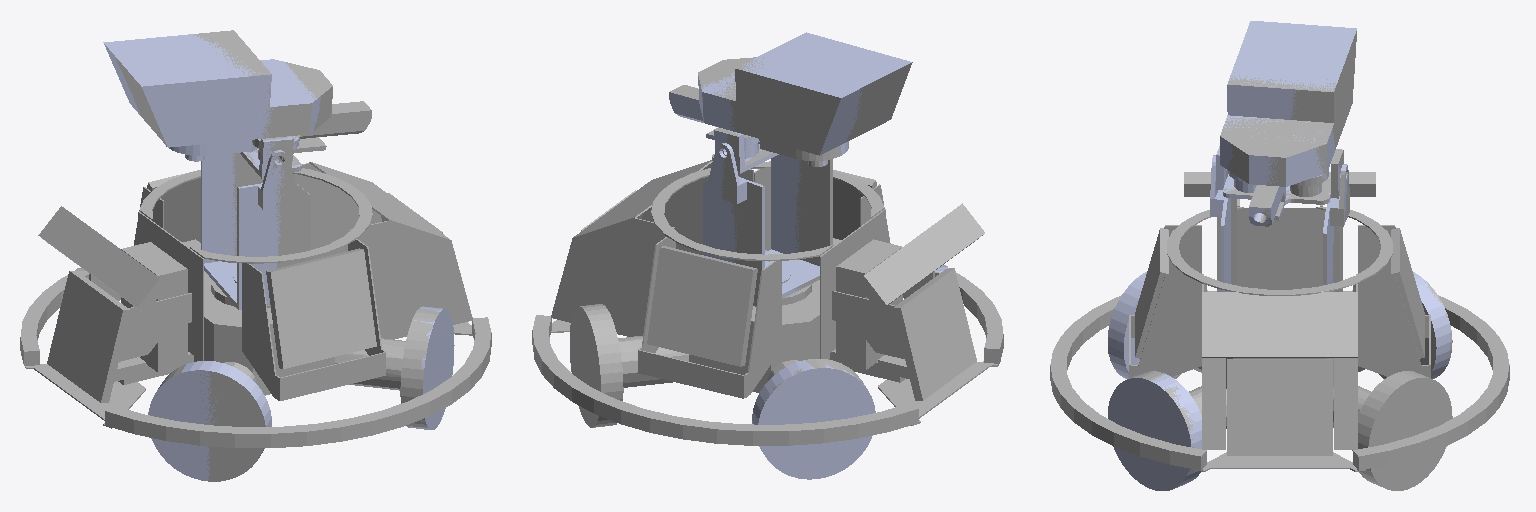
robot.urdf — urdf.SLDASM:
<?xml version="1.0" encoding="utf-8"?>
<!-- This URDF was automatically created by SolidWorks to URDF Exporter! Originally created by Stephen Brawner (brawner@gmail.com) 
     Commit Version: 1.6.0-4-g7f85cfe  Build Version: 1.6.7995.38578
     For more information, please see http://wiki.ros.org/sw_urdf_exporter -->
<robot
  name="urdf.SLDASM">
  <link
    name="Total assembly">
    <inertial>
      <origin
        xyz="-0.0195249578204248 0.00195572431337624 0.0199534599761812"
        rpy="0 0 0" />
      <mass
        value="12.7319888109524" />
      <inertia
        ixx="0.099910085738785"
        ixy="0.000904001123724784"
        ixz="0.00649172844420192"
        iyy="0.127406348155969"
        iyz="-0.000316780368073457"
        izz="0.180681987163622" />
    </inertial>
    <visual>
      <origin
        xyz="0 0 0"
        rpy="0 0 0" />
      <geometry>
        <mesh
          filename="package://urdf.SLDASM/meshes/Total assembly.STL" />
      </geometry>
      <material
        name="">
        <color
          rgba="0.752941176470588 0.752941176470588 0.752941176470588 1" />
      </material>
    </visual>
    <collision>
      <origin
        xyz="0 0 0"
        rpy="0 0 0" />
      <geometry>
        <mesh
          filename="package://urdf.SLDASM/meshes/Total assembly.STL" />
      </geometry>
    </collision>
  </link>
  <link
    name="body&amp;wheels">
    <inertial>
      <origin
        xyz="-0.014464583145287 -3.4777801978525E-08 -0.04630188656629"
        rpy="0 0 0" />
      <mass
        value="7.38762341423434" />
      <inertia
        ixx="0.0858099715349203"
        ixy="9.06674283538533E-08"
        ixz="0.00463615934367856"
        iyy="0.108320017042519"
        iyz="9.21827441555587E-06"
        izz="0.161187478867477" />
    </inertial>
    <visual>
      <origin
        xyz="0 0 0"
        rpy="0 0 0" />
      <geometry>
        <mesh
          filename="package://urdf.SLDASM/meshes/body&amp;wheels.STL" />
      </geometry>
      <material
        name="">
        <color
          rgba="0.792156862745098 0.819607843137255 0.933333333333333 1" />
      </material>
    </visual>
    <collision>
      <origin
        xyz="0 0 0"
        rpy="0 0 0" />
      <geometry>
        <mesh
          filename="package://urdf.SLDASM/meshes/body&amp;wheels.STL" />
      </geometry>
    </collision>
  </link>
  <joint
    name="body&amp;wheels"
    type="continuous">
    <origin
      xyz="0 0 0"
      rpy="0 0 0" />
    <parent
      link="Total assembly" />
    <child
      link="body&amp;wheels" />
    <axis
      xyz="0 0 -1" />
  </joint>
  <link
    name="frout left wheel">
    <inertial>
      <origin
        xyz="-0.0145 0 -1.11022302462516E-16"
        rpy="0 0 0" />
      <mass
        value="0.533176182602155" />
      <inertia
        ixx="0.00156014015731673"
        ixy="8.13151629364128E-20"
        ixz="3.92107847703925E-20"
        iyy="0.000817436842789067"
        iyz="1.0405631885096E-19"
        izz="0.000817436842789067" />
    </inertial>
    <visual>
      <origin
        xyz="0 0 0"
        rpy="0 0 0" />
      <geometry>
        <mesh
          filename="package://urdf.SLDASM/meshes/frout left wheel.STL" />
      </geometry>
      <material
        name="">
        <color
          rgba="0.792156862745098 0.819607843137255 0.933333333333333 1" />
      </material>
    </visual>
    <collision>
      <origin
        xyz="0 0 0"
        rpy="0 0 0" />
      <geometry>
        <mesh
          filename="package://urdf.SLDASM/meshes/frout left wheel.STL" />
      </geometry>
    </collision>
  </link>
  <joint
    name="frout left wheel"
    type="continuous">
    <origin
      xyz="0.16718 0.16718 -0.0907"
      rpy="0 0 0.7854" />
    <parent
      link="body&amp;wheels" />
    <child
      link="frout left wheel" />
    <axis
      xyz="1 0 0" />
  </joint>
  <link
    name="frout right wheel">
    <inertial>
      <origin
        xyz="-0.0145 -1.38777878078145E-17 -1.11022302462516E-16"
        rpy="0 0 0" />
      <mass
        value="0.533176182602155" />
      <inertia
        ixx="0.00156014015731673"
        ixy="0"
        ixz="9.67092878960191E-20"
        iyy="0.000817436842789067"
        iyz="4.59189434683823E-20"
        izz="0.000817436842789066" />
    </inertial>
    <visual>
      <origin
        xyz="0 0 0"
        rpy="0 0 0" />
      <geometry>
        <mesh
          filename="package://urdf.SLDASM/meshes/frout right wheel.STL" />
      </geometry>
      <material
        name="">
        <color
          rgba="0.792156862745098 0.819607843137255 0.933333333333333 1" />
      </material>
    </visual>
    <collision>
      <origin
        xyz="0 0 0"
        rpy="0 0 0" />
      <geometry>
        <mesh
          filename="package://urdf.SLDASM/meshes/frout right wheel.STL" />
      </geometry>
    </collision>
  </link>
  <joint
    name="frout right wheel"
    type="continuous">
    <origin
      xyz="0.16718 -0.16718 -0.09097"
      rpy="0 0 -0.7854" />
    <parent
      link="body&amp;wheels" />
    <child
      link="frout right wheel" />
    <axis
      xyz="1 0 0" />
  </joint>
  <link
    name="back left wheel">
    <inertial>
      <origin
        xyz="-0.0145 -1.38777878078145E-17 0"
        rpy="0 0 0" />
      <mass
        value="0.533176182602155" />
      <inertia
        ixx="0.00156014015731673"
        ixy="0"
        ixz="-1.14198415930064E-20"
        iyy="0.000817436842789067"
        iyz="-5.8057516350459E-20"
        izz="0.000817436842789067" />
    </inertial>
    <visual>
      <origin
        xyz="0 0 0"
        rpy="0 0 0" />
      <geometry>
        <mesh
          filename="package://urdf.SLDASM/meshes/back left wheel.STL" />
      </geometry>
      <material
        name="">
        <color
          rgba="0.792156862745098 0.819607843137255 0.933333333333333 1" />
      </material>
    </visual>
    <collision>
      <origin
        xyz="0 0 0"
        rpy="0 0 0" />
      <geometry>
        <mesh
          filename="package://urdf.SLDASM/meshes/back left wheel.STL" />
      </geometry>
    </collision>
  </link>
  <joint
    name="back left wheel"
    type="continuous">
    <origin
      xyz="-0.16718 0.16718 -0.09097"
      rpy="0 0 2.3562" />
    <parent
      link="body&amp;wheels" />
    <child
      link="back left wheel" />
    <axis
      xyz="-1 0 0" />
  </joint>
  <link
    name="back right wheel">
    <inertial>
      <origin
        xyz="-0.127403866697427 -0.181711200468062 -0.204299845961811"
        rpy="0 0 0" />
      <mass
        value="0.533176182602155" />
      <inertia
        ixx="0.00106221244233337"
        ixy="0.000349113956989373"
        ixz="8.69614394519842E-20"
        iyy="0.00131536455777242"
        iyz="-2.43969840038229E-20"
        izz="0.000817436842789066" />
    </inertial>
    <visual>
      <origin
        xyz="0 0 0"
        rpy="0 0 0" />
      <geometry>
        <mesh
          filename="package://urdf.SLDASM/meshes/back right wheel.STL" />
      </geometry>
      <material
        name="">
        <color
          rgba="0.792156862745098 0.819607843137255 0.933333333333333 1" />
      </material>
    </visual>
    <collision>
      <origin
        xyz="0 0 0"
        rpy="0 0 0" />
      <geometry>
        <mesh
          filename="package://urdf.SLDASM/meshes/back right wheel.STL" />
      </geometry>
    </collision>
  </link>
  <joint
    name="back right wheel"
    type="continuous">
    <origin
      xyz="0 0 0.1136"
      rpy="0 0 -0.17391" />
    <parent
      link="body&amp;wheels" />
    <child
      link="back right wheel" />
    <axis
      xyz="0.57409 0.8188 0" />
  </joint>
  <link
    name="body&amp;gimbol">
    <inertial>
      <origin
        xyz="-0.014464583145287 -3.47778019750555E-08 -0.0463018865662903"
        rpy="0 0 0" />
      <mass
        value="7.38762341423434" />
      <inertia
        ixx="0.0858099715349203"
        ixy="9.06674283547613E-08"
        ixz="0.00463615934367856"
        iyy="0.108320017042519"
        iyz="9.21827441555822E-06"
        izz="0.161187478867477" />
    </inertial>
    <visual>
      <origin
        xyz="0 0 0"
        rpy="0 0 0" />
      <geometry>
        <mesh
          filename="package://urdf.SLDASM/meshes/body&amp;gimbol.STL" />
      </geometry>
      <material
        name="">
        <color
          rgba="0.792156862745098 0.819607843137255 0.933333333333333 1" />
      </material>
    </visual>
    <collision>
      <origin
        xyz="0 0 0"
        rpy="0 0 0" />
      <geometry>
        <mesh
          filename="package://urdf.SLDASM/meshes/body&amp;gimbol.STL" />
      </geometry>
    </collision>
  </link>
  <joint
    name="body&amp;gimbol"
    type="continuous">
    <origin
      xyz="0 0 0"
      rpy="0 0 0" />
    <parent
      link="Total assembly" />
    <child
      link="body&amp;gimbol" />
    <axis
      xyz="0 0 -1" />
  </joint>
  <link
    name="gimbol">
    <inertial>
      <origin
        xyz="-0.000418768299019601 -2.91433543964104E-16 -0.0356697610188731"
        rpy="0 0 0" />
      <mass
        value="0.296006965244182" />
      <inertia
        ixx="0.00245101679694451"
        ixy="-2.16840434497101E-19"
        ixz="1.00776769706153E-05"
        iyy="0.0014572578844202"
        iyz="-5.56077129872448E-19"
        izz="0.00136511673062511" />
    </inertial>
    <visual>
      <origin
        xyz="0 0 0"
        rpy="0 0 0" />
      <geometry>
        <mesh
          filename="package://urdf.SLDASM/meshes/gimbol.STL" />
      </geometry>
      <material
        name="">
        <color
          rgba="0.792156862745098 0.819607843137255 0.933333333333333 1" />
      </material>
    </visual>
    <collision>
      <origin
        xyz="0 0 0"
        rpy="0 0 0" />
      <geometry>
        <mesh
          filename="package://urdf.SLDASM/meshes/gimbol.STL" />
      </geometry>
    </collision>
  </link>
  <joint
    name="gimbol"
    type="continuous">
    <origin
      xyz="0 0 0.1136"
      rpy="0 0 -0.17391" />
    <parent
      link="body&amp;gimbol" />
    <child
      link="gimbol" />
    <axis
      xyz="0 0 -1" />
  </joint>
  <link
    name="gimbol&amp;launch">
    <inertial>
      <origin
        xyz="-0.000418768299019601 -2.77555756156289E-16 -0.0356697610188731"
        rpy="0 0 0" />
      <mass
        value="0.296006965244182" />
      <inertia
        ixx="0.00245101679694451"
        ixy="2.71050543121376E-20"
        ixz="1.00776769706153E-05"
        iyy="0.0014572578844202"
        iyz="-4.32833836046947E-19"
        izz="0.00136511673062511" />
    </inertial>
    <visual>
      <origin
        xyz="0 0 0"
        rpy="0 0 0" />
      <geometry>
        <mesh
          filename="package://urdf.SLDASM/meshes/gimbol&amp;launch.STL" />
      </geometry>
      <material
        name="">
        <color
          rgba="0.792156862745098 0.819607843137255 0.933333333333333 1" />
      </material>
    </visual>
    <collision>
      <origin
        xyz="0 0 0"
        rpy="0 0 0" />
      <geometry>
        <mesh
          filename="package://urdf.SLDASM/meshes/gimbol&amp;launch.STL" />
      </geometry>
    </collision>
  </link>
  <joint
    name="gimbol&amp;launch"
    type="continuous">
    <origin
      xyz="0 0 0.1136"
      rpy="0 0 -0.17391" />
    <parent
      link="Total assembly" />
    <child
      link="gimbol&amp;launch" />
    <axis
      xyz="0 0 -1" />
  </joint>
  <link
    name="launch">
    <inertial>
      <origin
        xyz="-0.0526954299975222 2.81969296522799E-09 0.0528104483400688"
        rpy="0 0 0" />
      <mass
        value="2.91565370106525" />
      <inertia
        ixx="0.00653411801697912"
        ixy="-2.08265526950128E-10"
        ixz="0.00135570597140225"
        iyy="0.0130327240230517"
        iyz="-2.7407729920282E-10"
        izz="0.015060664789859" />
    </inertial>
    <visual>
      <origin
        xyz="0 0 0"
        rpy="0 0 0" />
      <geometry>
        <mesh
          filename="package://urdf.SLDASM/meshes/launch.STL" />
      </geometry>
      <material
        name="">
        <color
          rgba="0.792156862745098 0.819607843137255 0.933333333333333 1" />
      </material>
    </visual>
    <collision>
      <origin
        xyz="0 0 0"
        rpy="0 0 0" />
      <geometry>
        <mesh
          filename="package://urdf.SLDASM/meshes/launch.STL" />
      </geometry>
    </collision>
  </link>
  <joint
    name="launch"
    type="continuous">
    <origin
      xyz="0 0 0.0934"
      rpy="0 0.062163 0" />
    <parent
      link="gimbol&amp;launch" />
    <child
      link="launch" />
    <axis
      xyz="0 -1 0" />
  </joint>
</robot>

--- What the picture shows (computed from the rendered views, not written in the file) ---
The picture shows the robot from 3 angles, left to right: view 1: azimuth 30°, elevation 25°; view 2: azimuth 150°, elevation 25°; view 3: azimuth 270°, elevation 25°; orthographic projection.
Robot: urdf.SLDASM — 10 links, 9 joints (9 continuous); root link Total assembly; default pose: every joint at zero.
Visible links, largest first — view 1: Total assembly, launch, gimbol, back right wheel, frout right wheel; view 2: Total assembly, launch, back left wheel, gimbol; view 3: Total assembly, launch, frout right wheel, gimbol, back right wheel, back left wheel.
Link boxes in pixels (box(x1,y1,x2,y2)): Total assembly: box(20, 30, 491, 481); launch: box(103, 34, 320, 178); gimbol: box(201, 150, 309, 309); back right wheel: box(148, 361, 271, 481); frout right wheel: box(410, 306, 454, 429); Total assembly: box(532, 57, 1003, 445); launch: box(669, 32, 911, 173); back left wheel: box(752, 360, 875, 479); gimbol: box(703, 143, 819, 298); Total assembly: box(1050, 31, 1509, 490); launch: box(1216, 21, 1356, 226); frout right wheel: box(1108, 371, 1201, 490); gimbol: box(1210, 155, 1347, 291); back right wheel: box(1108, 272, 1146, 378); back left wheel: box(1413, 272, 1451, 378).
Bounding box of the posed robot: 0.5535 × 0.589 × 0.4972 m (x, y, z).
6 mesh visuals loaded from 10 distinct referenced files (6 binary STL); not drawn: 4 (reference not matched to a file when rendering).
